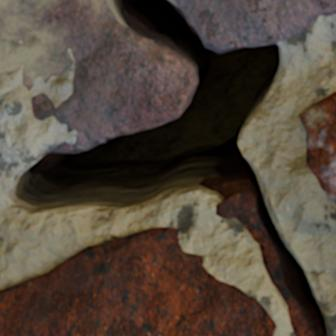brick: (0, 228, 275, 335), (300, 92, 335, 202), (217, 194, 256, 229), (263, 260, 276, 286)
broken_brick: (0, 0, 191, 147), (178, 0, 335, 49)
crack: (1, 0, 335, 335)
